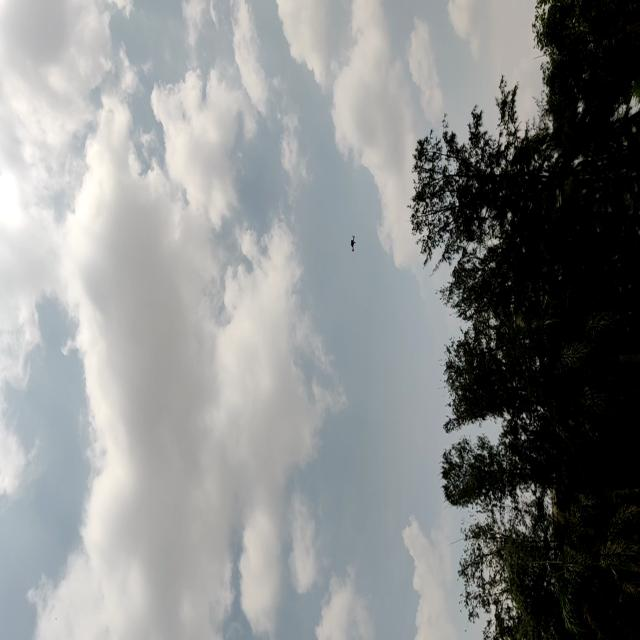drone: (344, 222, 361, 258)
